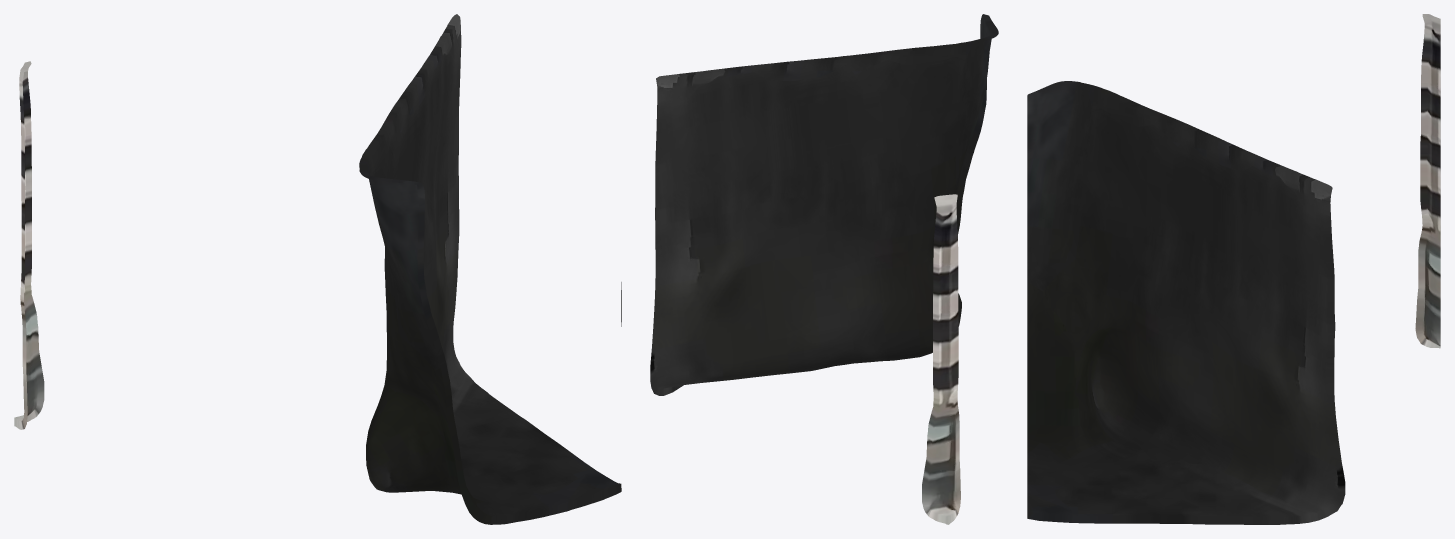
Rendered from z20-167776-405237-h0-yup-uvflip-v3-world.glb.
The picture shows the model from 3 angles, left to right: view 1: azimuth 30°, elevation 25°; view 2: azimuth 150°, elevation 25°; view 3: azimuth 270°, elevation 25°; orthographic projection. The views are drawn at different scales.
Bounding box in the file's own units: 30.2 × 27.32 × 30.32.
1 material, 1 textured.
